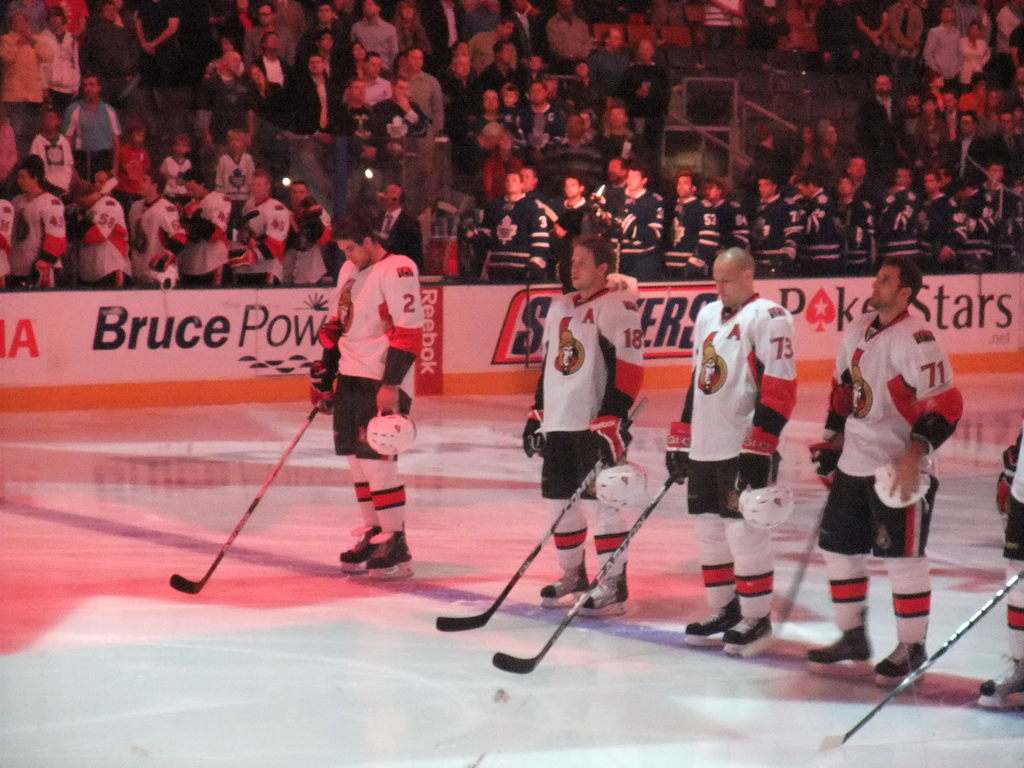Person: (0, 0, 1024, 705)
